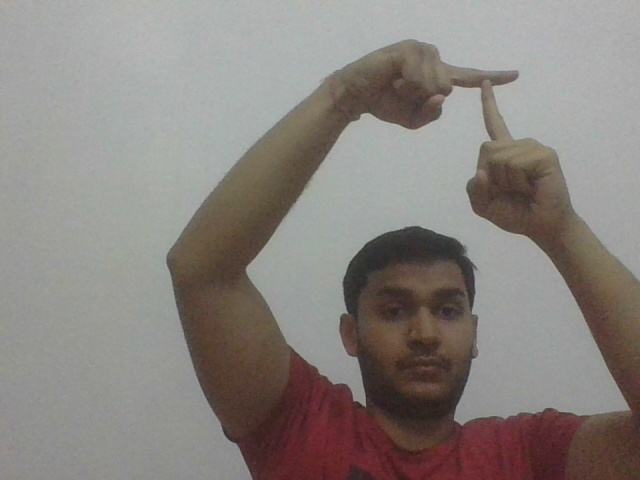T: (451, 60, 531, 138)
